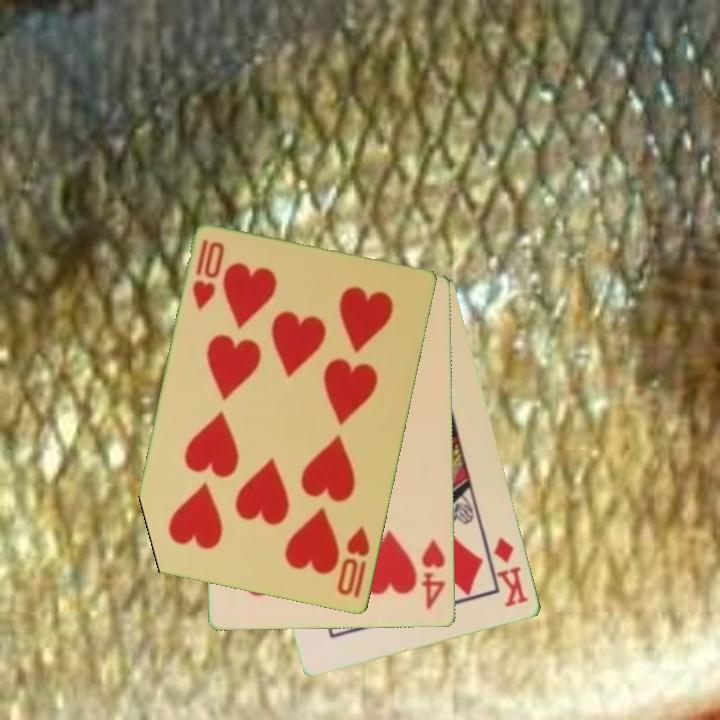10h: (334, 523, 373, 602), (189, 235, 228, 313)
4h: (418, 536, 449, 613)
Kd: (490, 534, 533, 611)
